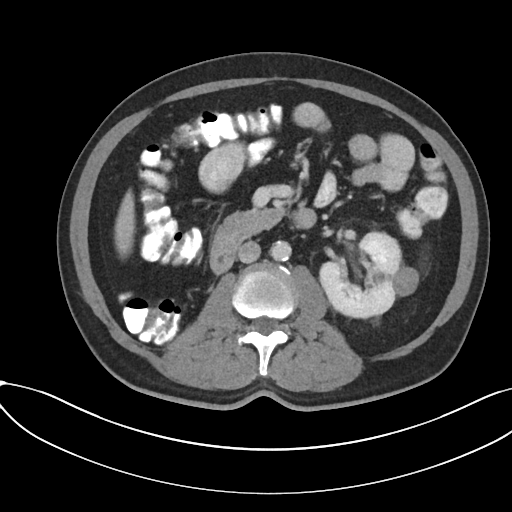Lesion: (391, 266, 421, 297)
